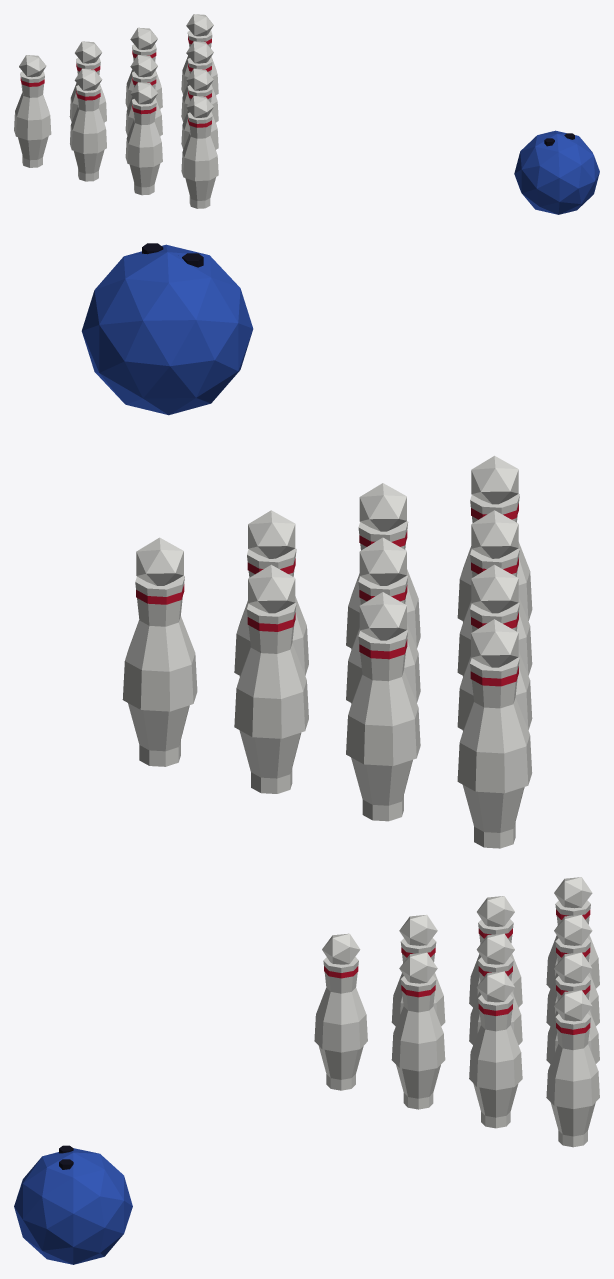
Rendered from bowling_set.glb.
3 views of the same model, one above another, from view 1: azimuth 30°, elevation 25°; view 2: azimuth 150°, elevation 25°; view 3: azimuth 270°, elevation 25° (orthographic). The views are drawn at different scales.
Visible parts, largest first — view 1: bowling_set; view 2: bowling_set; view 3: bowling_set.
Boxes of the visible parts, x1,y1,x2,y2 form: bowling_set: (14, 14, 599, 214); bowling_set: (81, 243, 532, 848); bowling_set: (14, 877, 599, 1264).
Size of the model in its own units: 2.13 by 0.551 by 1.97.
